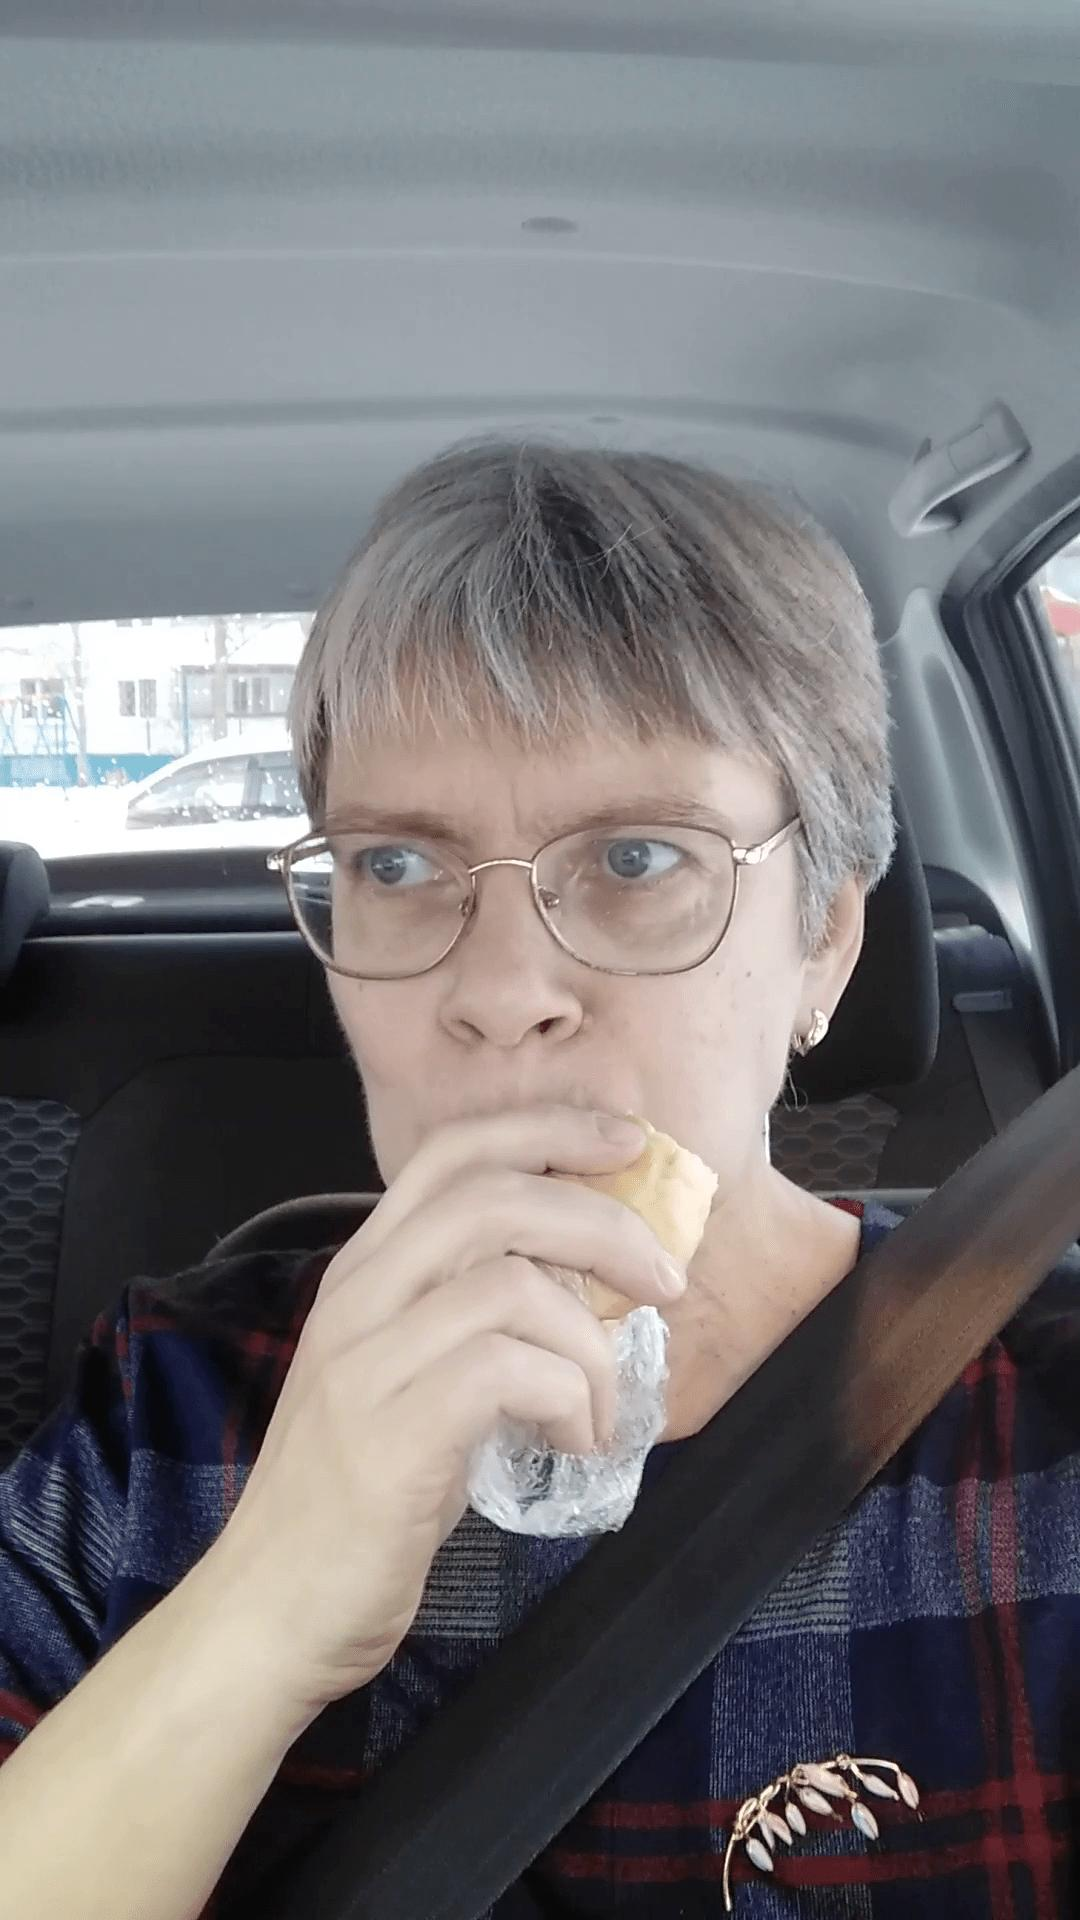Eating: (448, 1055, 735, 1555)
